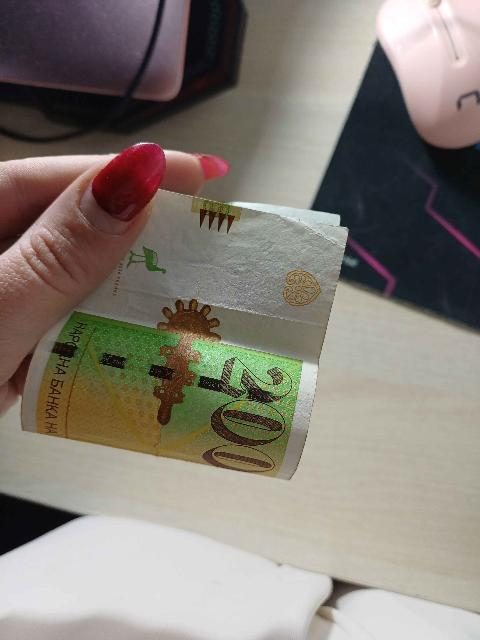200_note: (38, 187, 335, 472)
